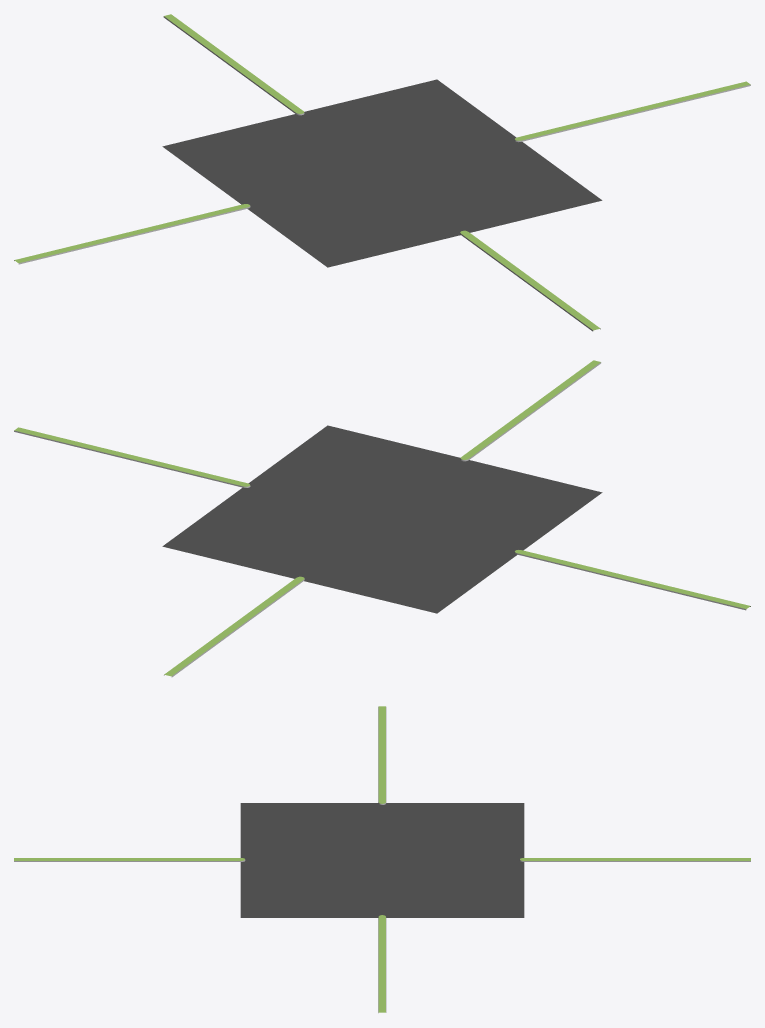
File: IntersectionDividers.fbx
The picture shows the model from 3 angles, top to bottom: view 1: azimuth 30°, elevation 25°; view 2: azimuth 150°, elevation 25°; view 3: azimuth 270°, elevation 25°; orthographic projection. The views are drawn at different scales.
Parts seen in each view (by area): view 1: pPlane26, pCube429, pCube430, pCube427, pCube428; view 2: pPlane26, pCube429, pCube430, pCube428, pCube427; view 3: pPlane26, pCube427, pCube428, pCube429, pCube430.
Part boxes in pixels (bbox=[...]): pPlane26: bbox=[162, 79, 602, 267]; pCube429: bbox=[14, 204, 247, 264]; pCube430: bbox=[518, 81, 750, 141]; pCube427: bbox=[461, 232, 600, 331]; pCube428: bbox=[163, 14, 302, 113]; pPlane26: bbox=[162, 425, 602, 613]; pCube429: bbox=[517, 550, 750, 610]; pCube430: bbox=[14, 427, 246, 487]; pCube428: bbox=[164, 578, 303, 677]; pCube427: bbox=[462, 360, 601, 459]; pPlane26: bbox=[240, 803, 524, 917]; pCube427: bbox=[14, 858, 240, 861]; pCube428: bbox=[524, 858, 750, 861]; pCube429: bbox=[378, 706, 386, 802]; pCube430: bbox=[378, 917, 386, 1012].
Size of the model in its own units: 8006 by 12.67 by 8134.
